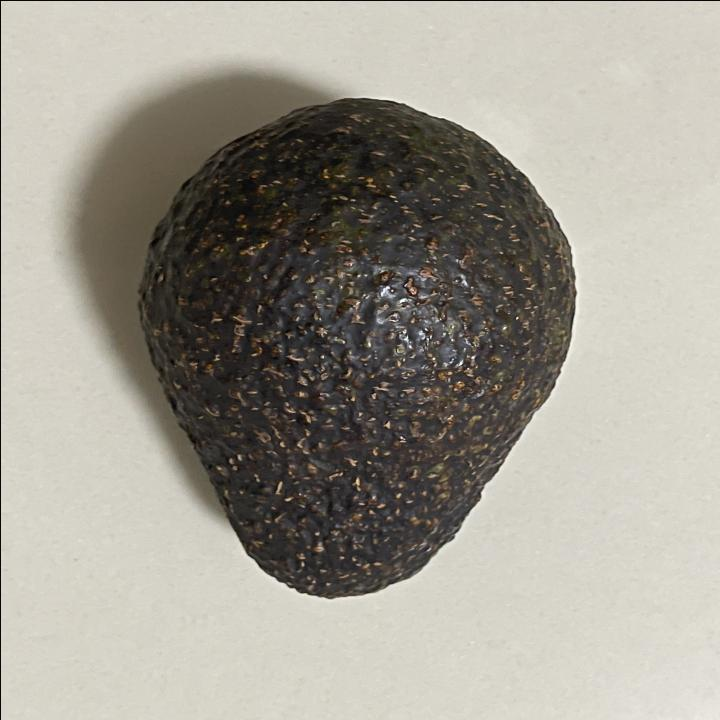Level2: (130, 88, 586, 610)
